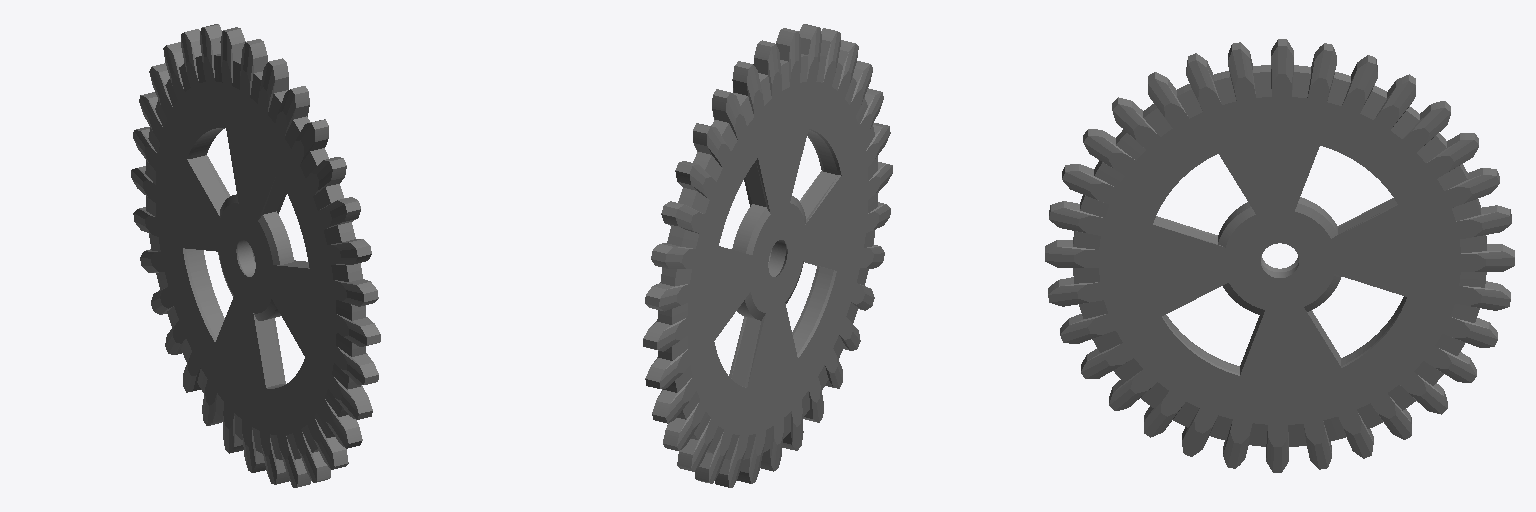
The model's file is gearOut2.obj.
3 renders of one model, left to right at view 1: azimuth 30°, elevation 25°; view 2: azimuth 150°, elevation 25°; view 3: azimuth 270°, elevation 25°, orthographic.
Bounding box in the file's own units: 0.3272 × 6.7 × 6.7.